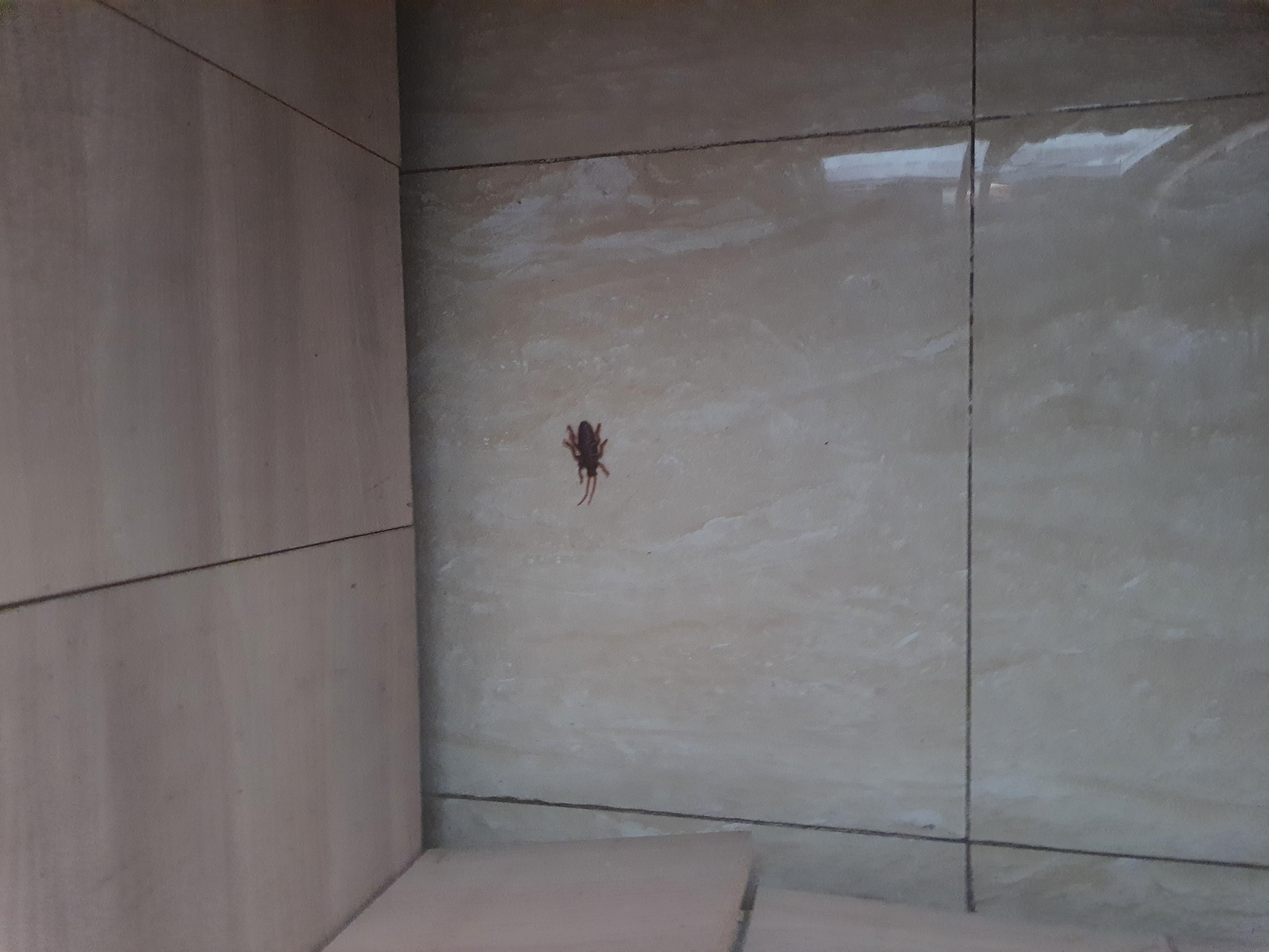cockroach: (590, 410, 740, 466)
